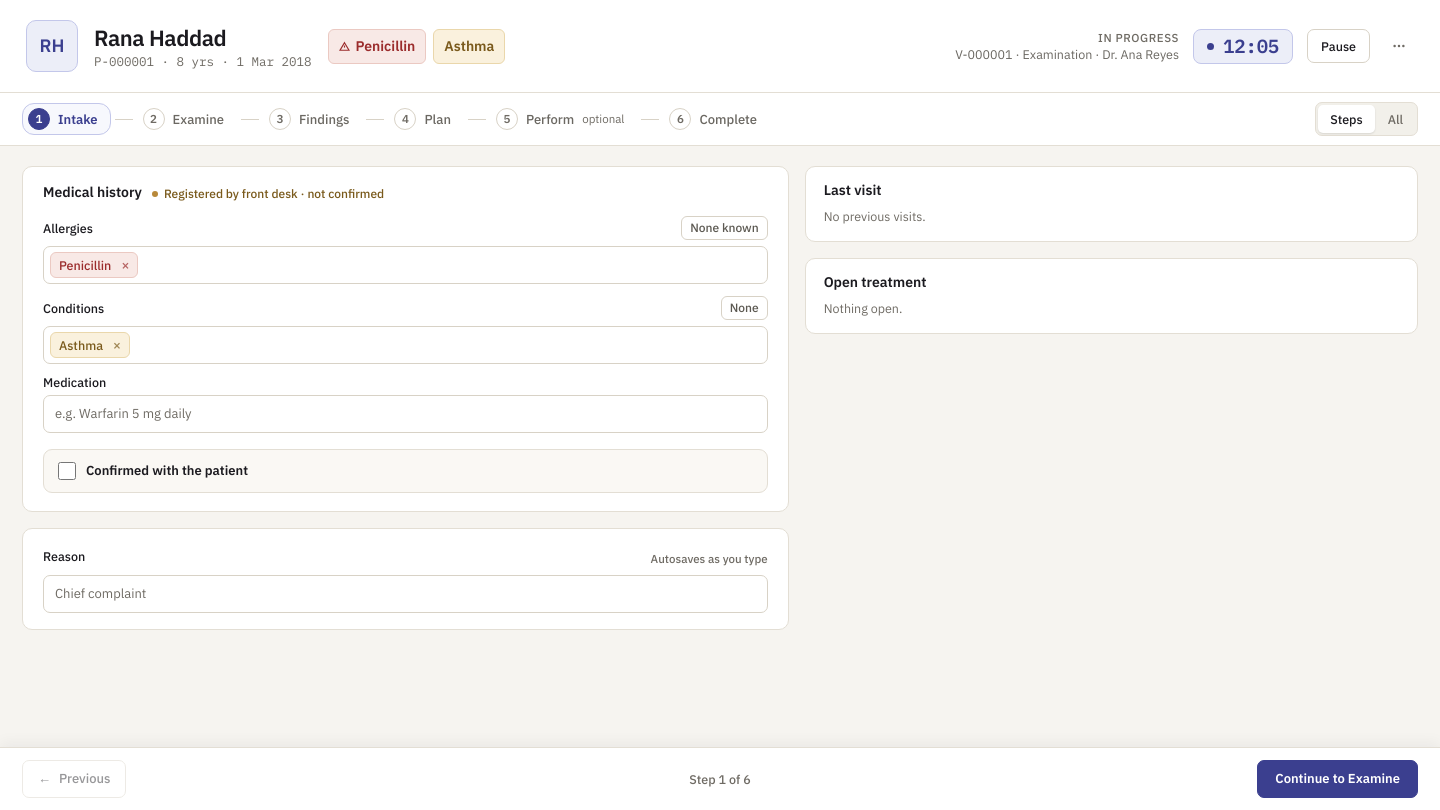
Scenario: visit flows › confirms the medical history at Intake
This screenshot has width=1440, height=810.
Expected: the text "Registered by front desk · not confirmed" is shown, [152, 188, 384, 200]
Click the checkbox labelled "Confirmed with the patient". click: click(67, 470)
box: [58, 462, 76, 480]
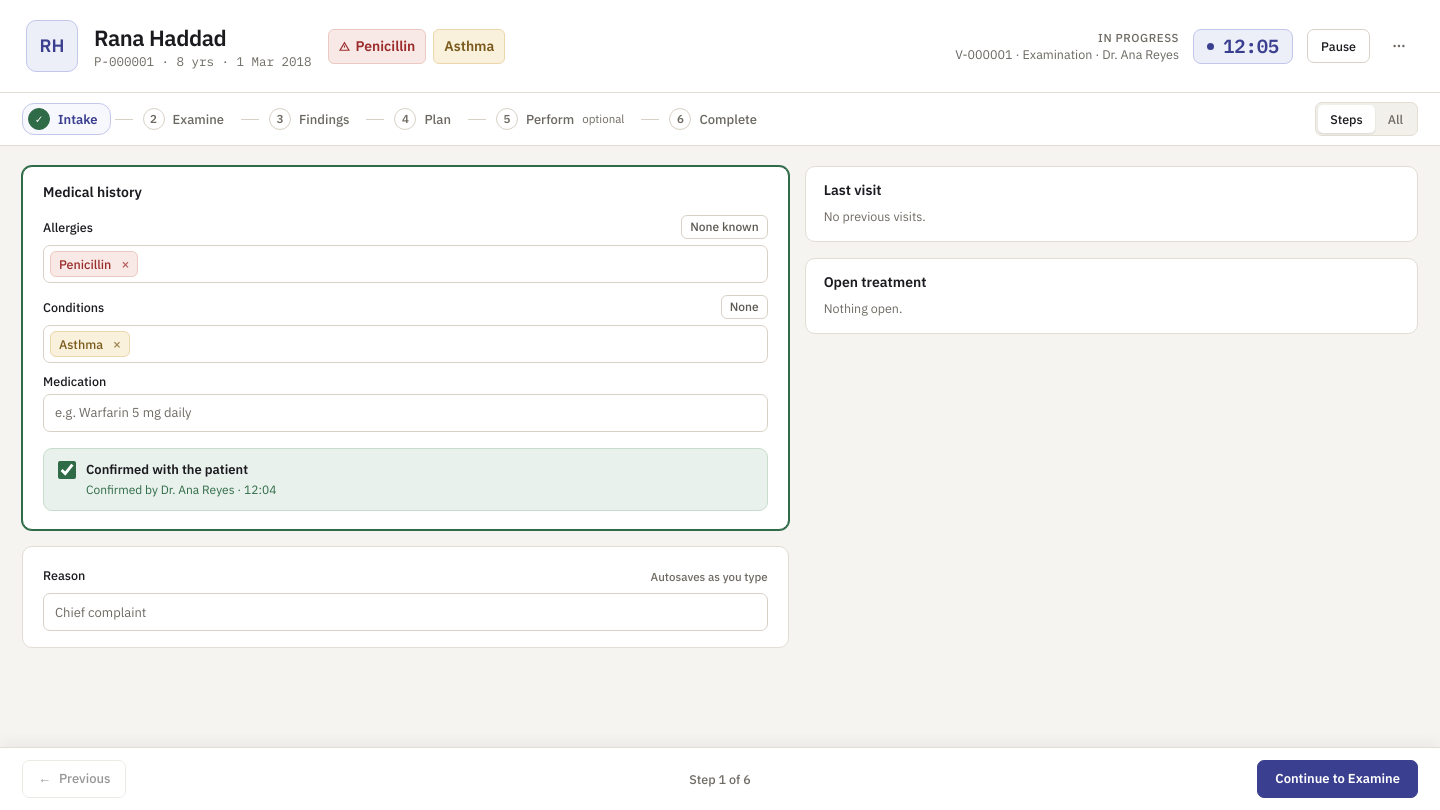
Expected: the text "Confirmed by Dr. Ana Reyes · 12:04" is shown, [86, 482, 276, 497]
Expected: the text "Registered by front desk · not confirmed" is gone
